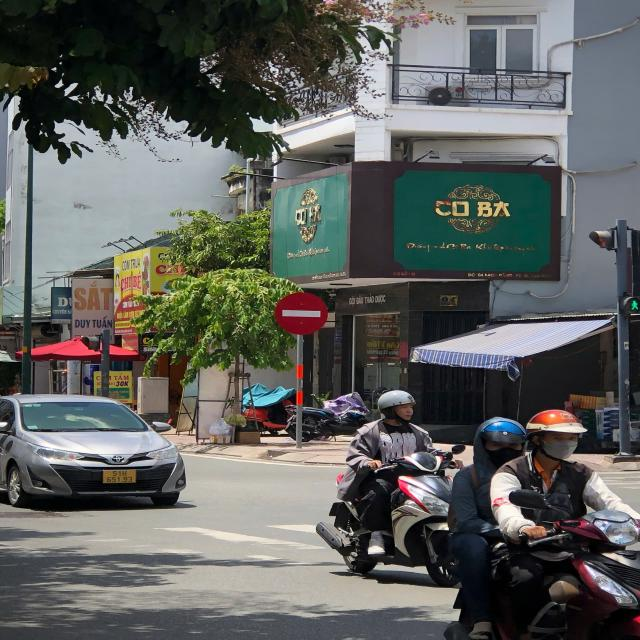Bien bao cam di nguoc chieu: (269, 285, 337, 340)
